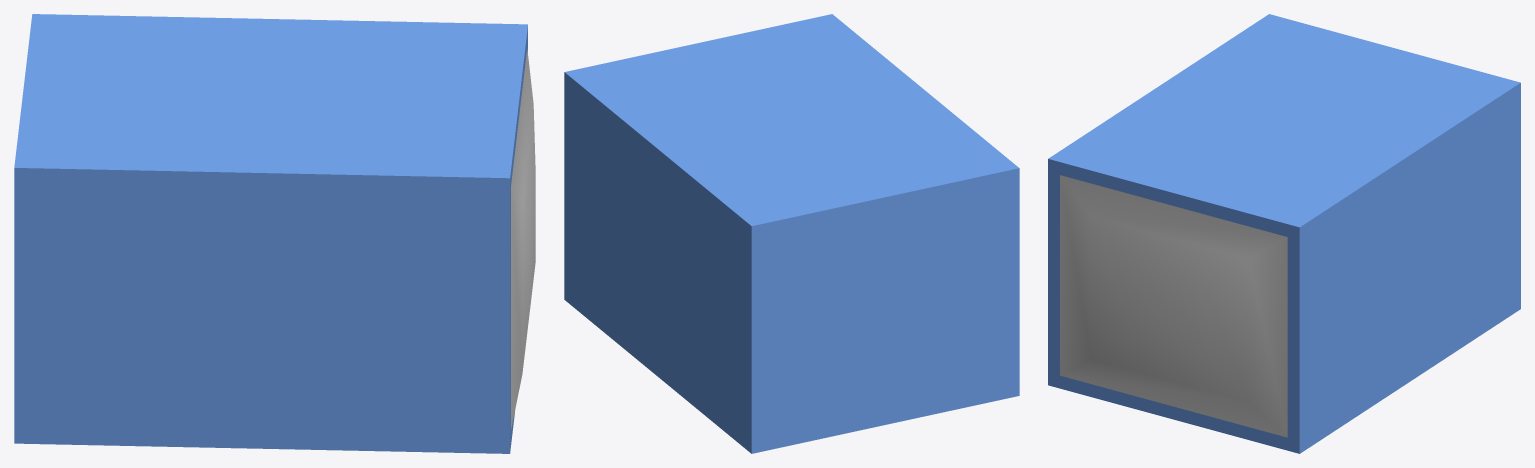
The model's file is security_test.glb.
3 views of the same model, side by side, from view 1: azimuth 30°, elevation 25°; view 2: azimuth 150°, elevation 25°; view 3: azimuth 270°, elevation 25° (orthographic). The views are drawn at different scales.
Visible parts, largest first — view 1: Plane.001; view 2: Plane.001; view 3: Plane.001.
Boxes of the visible parts, x1,y1,x2,y2 form: Plane.001: (14,14,535,453); Plane.001: (564,14,1019,453); Plane.001: (1048,14,1520,453).
Size of the model in its own units: 0.8187 by 0.4052 by 0.7663.
